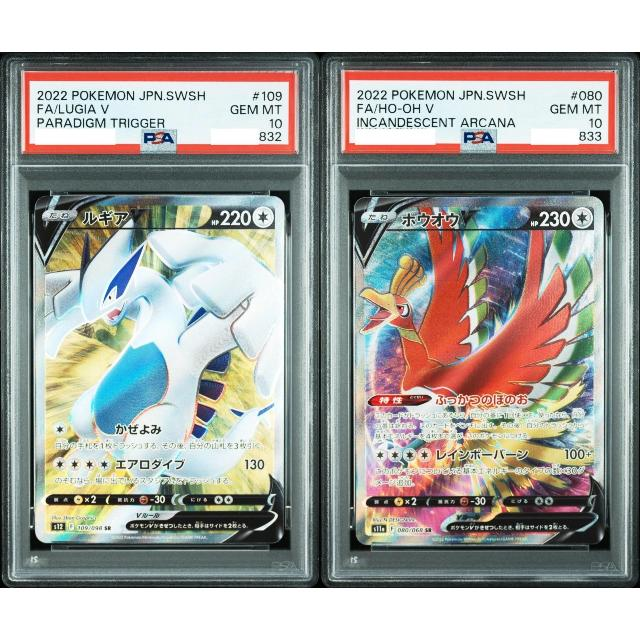Card: (351, 194, 609, 549), (30, 193, 289, 545)
Name: (397, 202, 484, 231), (77, 204, 131, 230)
